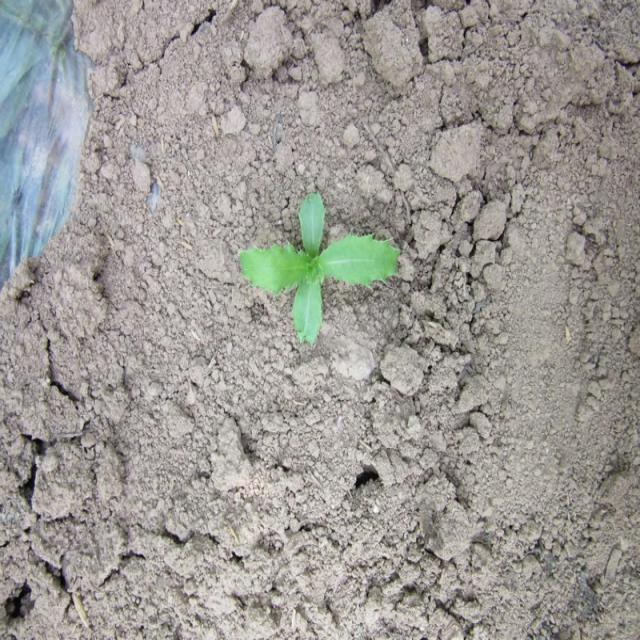field_thistle: (216, 194, 407, 359)
